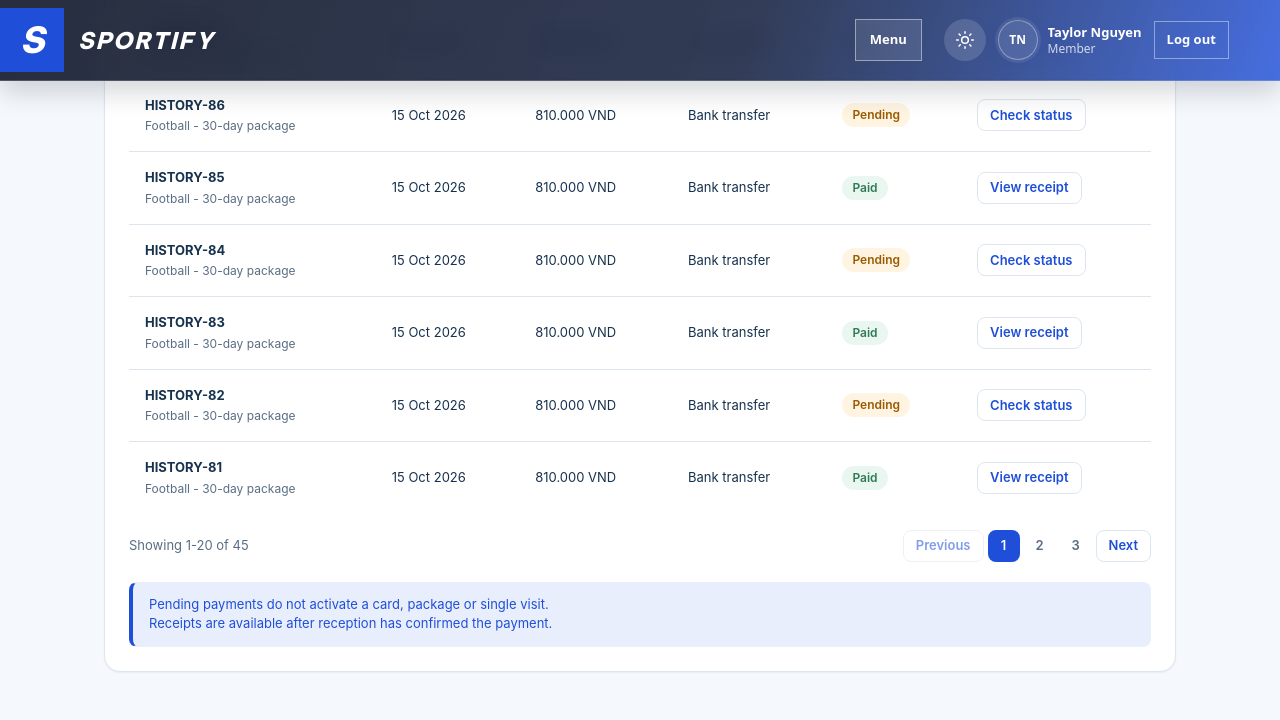
Test: FE-11 server payment history pagination › reaches first, subsequent and last pages of 45 payments without fetching all rows
(page scrolled)
Expected: the text "Showing 1-20 of 45" is shown, [129,536,249,555]
Expected: the button "Previous" is disabled, [903,530,984,562]
Click the button "Next" at (1123, 546), box [1096,530,1151,562]
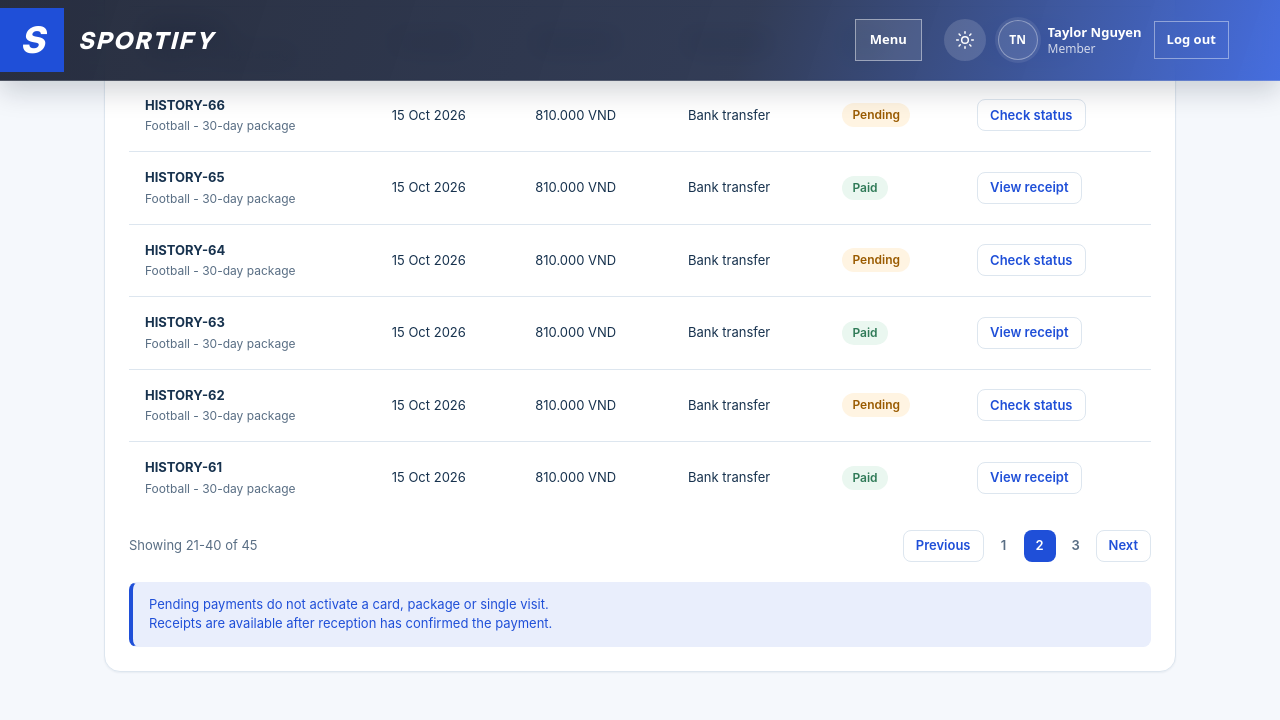
Click the button "Next" at (1123, 546), box [1096,530,1151,562]
(page scrolled)
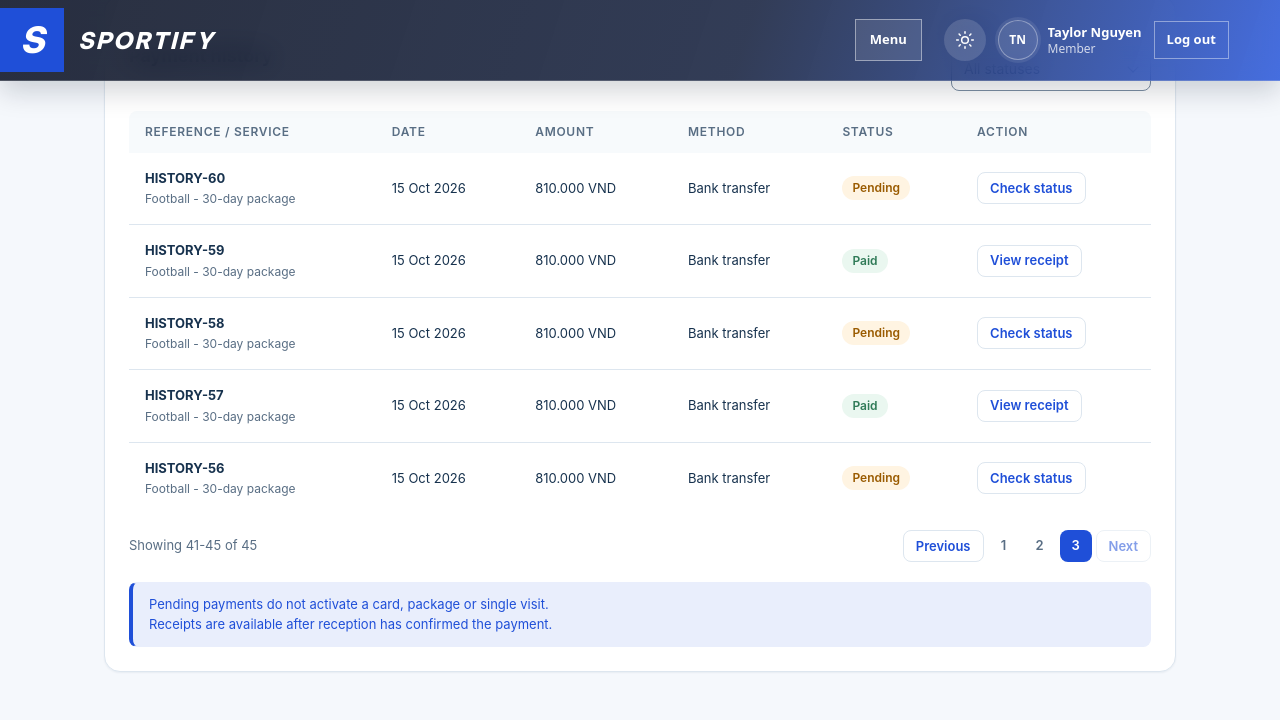
Now the text "HISTORY-60" is shown, box [145,170,225,186]
Now the text "Showing 41-45 of 45" is shown, box [129,536,257,556]
Now the button "Next" is disabled, box [1096,530,1151,562]
